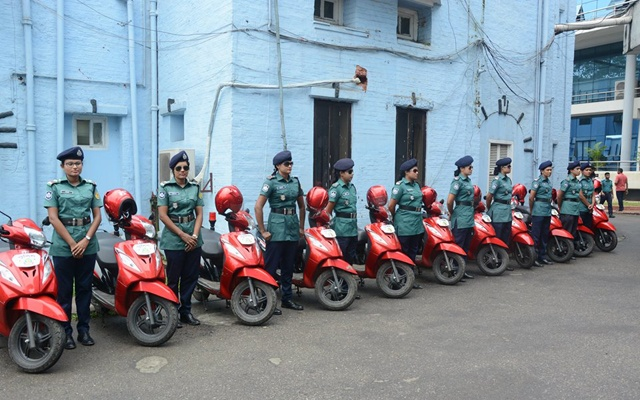scooter: (89, 189, 181, 349), (194, 184, 280, 328), (1, 205, 69, 375), (292, 186, 359, 314), (357, 186, 417, 301), (421, 186, 465, 284), (472, 183, 510, 278), (511, 182, 537, 271), (592, 176, 619, 253), (548, 202, 575, 266), (577, 216, 596, 259)
